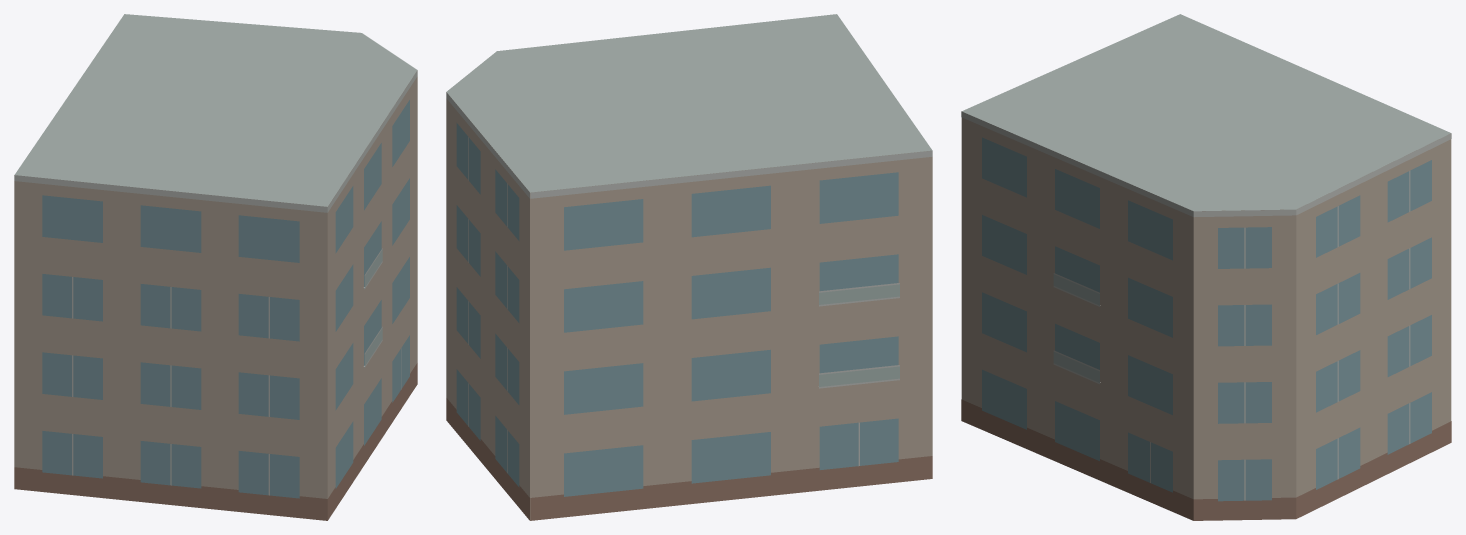
Rendered from survey-upis-32850235.glb.
3 renders of one model, left to right at view 1: azimuth 30°, elevation 25°; view 2: azimuth 150°, elevation 25°; view 3: azimuth 270°, elevation 25°, orthographic. The views are drawn at different scales.
Visible parts, largest first — view 1: survey-upis-32850235.tmp; view 2: survey-upis-32850235.tmp; view 3: survey-upis-32850235.tmp.
Part boxes in pixels (<box>): survey-upis-32850235.tmp: <box>14,14,417,520</box>; survey-upis-32850235.tmp: <box>446,14,932,520</box>; survey-upis-32850235.tmp: <box>961,14,1451,520</box>.
Bounding box in the file's own units: 17.5 × 12.8 × 18.36.
